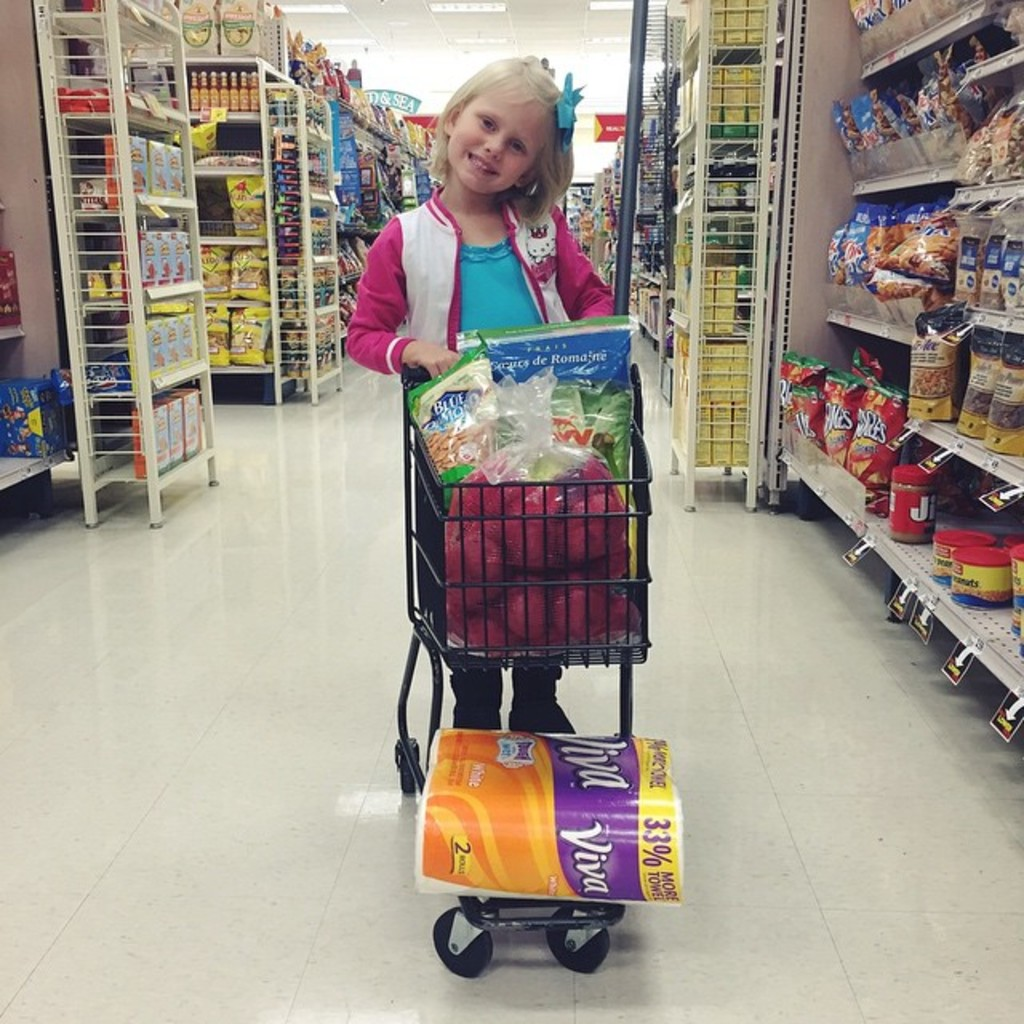Person: (345, 55, 613, 734)
